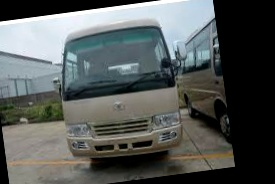bus: (50, 12, 188, 170)
